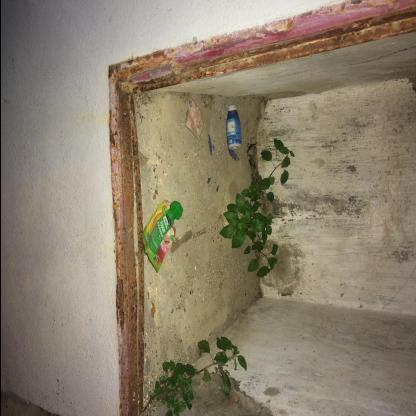plastik: (141, 200, 183, 273), (225, 105, 241, 150)
